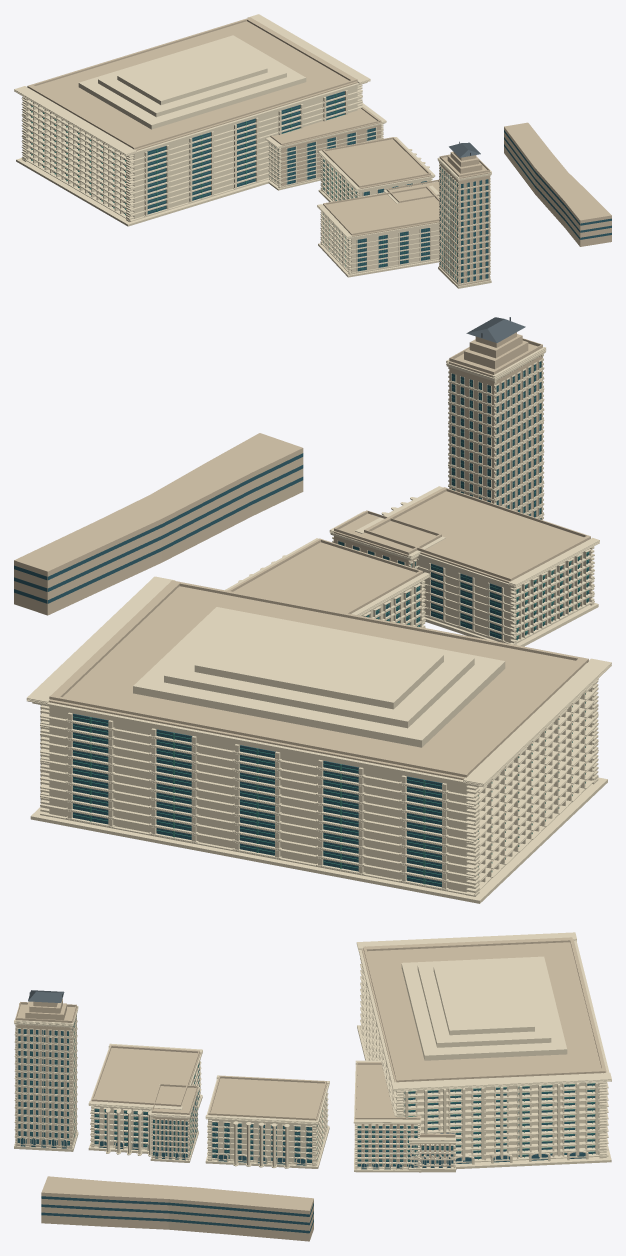
The model's file is city_-2_1.glb.
The picture shows the model from 3 angles, top to bottom: view 1: azimuth 30°, elevation 25°; view 2: azimuth 150°, elevation 25°; view 3: azimuth 270°, elevation 25°; orthographic projection. The views are drawn at different scales.
Parts seen in each view (by area): view 1: city_-2_1; view 2: city_-2_1; view 3: city_-2_1.
Part boxes in pixels (x1=…): city_-2_1: x1=14, y1=14, x2=611, y2=288; city_-2_1: x1=14, y1=317, x2=611, y2=903; city_-2_1: x1=14, y1=932, x2=611, y2=1241.
Bounding box in the file's own units: 236 × 73 × 265.
